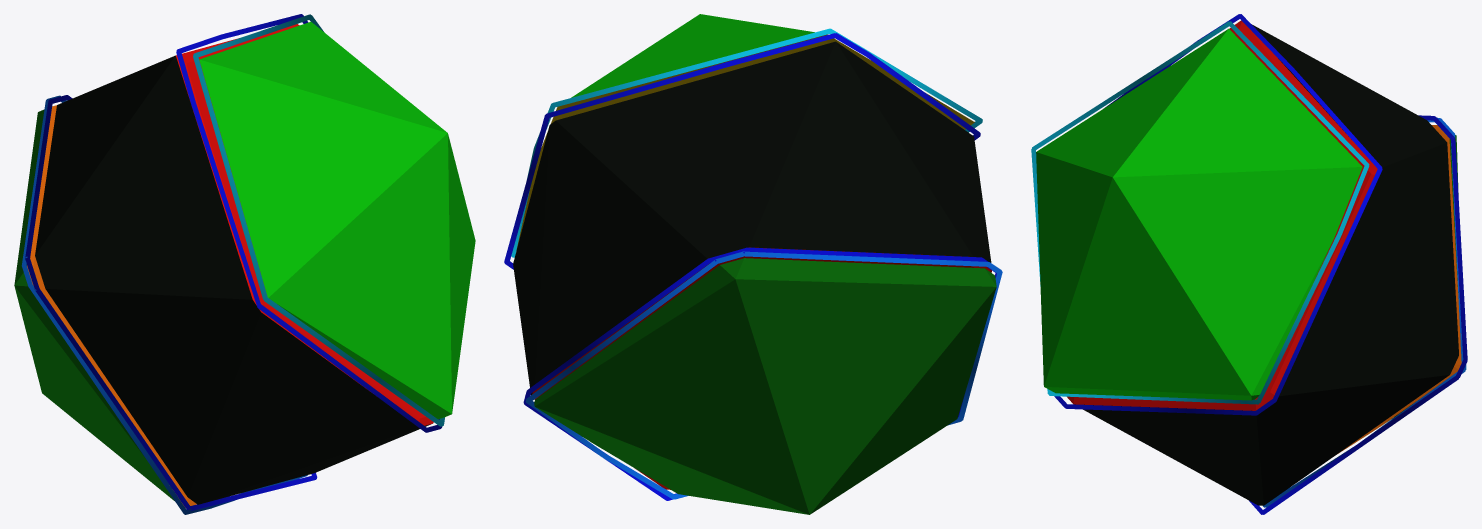
The model's file is FX_Mesh_Icosahedron_A.fbx.
3 renders of one model, left to right at view 1: azimuth 30°, elevation 25°; view 2: azimuth 150°, elevation 25°; view 3: azimuth 270°, elevation 25°, orthographic. The views are drawn at different scales.
Parts seen in each view (by area): view 1: Icosahedron_A; view 2: Icosahedron_A; view 3: Icosahedron_A.
Part boxes in pixels (x1,y1,x2,y2): Icosahedron_A: (14,14,475,514); Icosahedron_A: (504,14,1002,514); Icosahedron_A: (1031,14,1467,514).
Bounding box in the file's own units: 1287 × 1264 × 1150.
